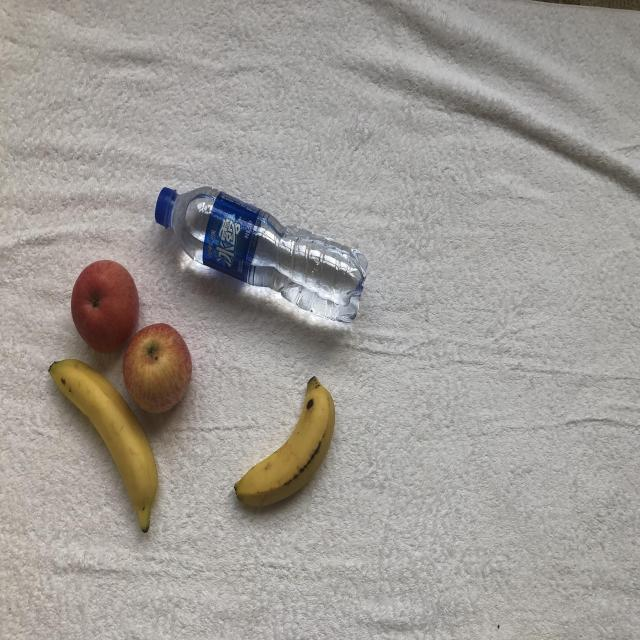Apple: (120, 312, 192, 422), (68, 253, 143, 358)
Banana: (40, 350, 162, 542), (233, 358, 338, 525)
